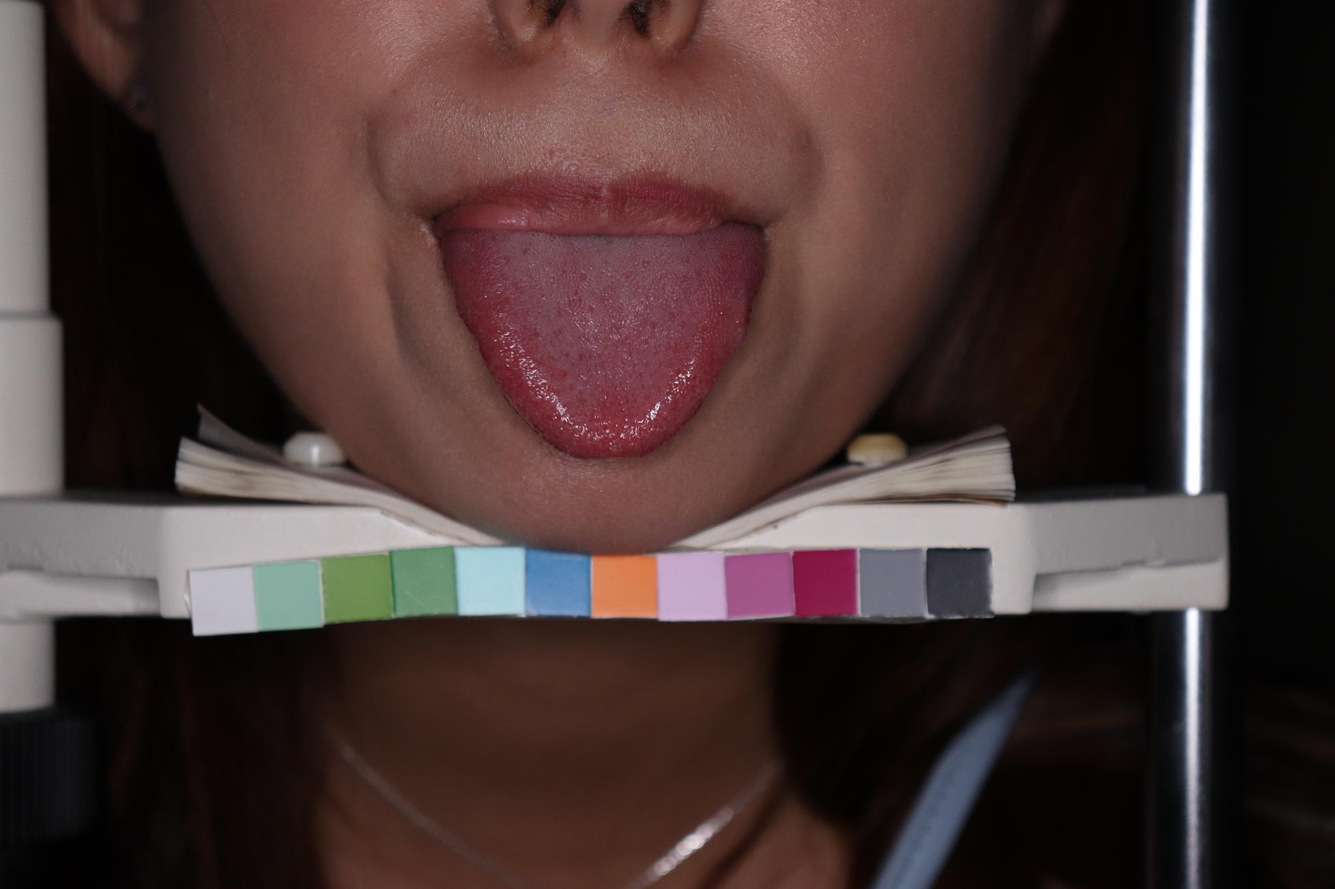baitaishe: (433, 220, 763, 465)
huataishe: (521, 374, 702, 450)
